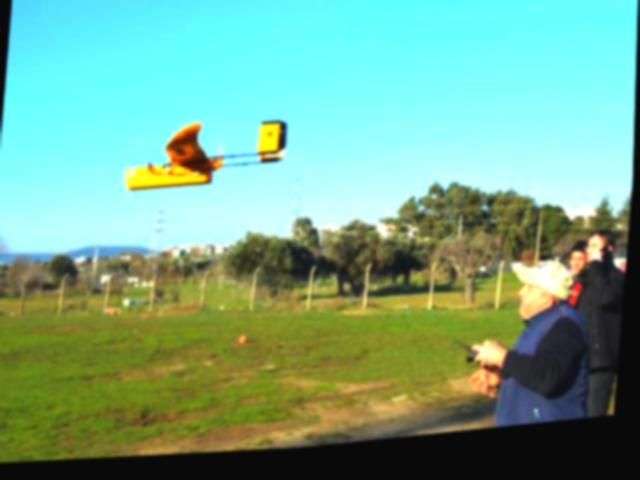iha: (118, 107, 292, 204)
